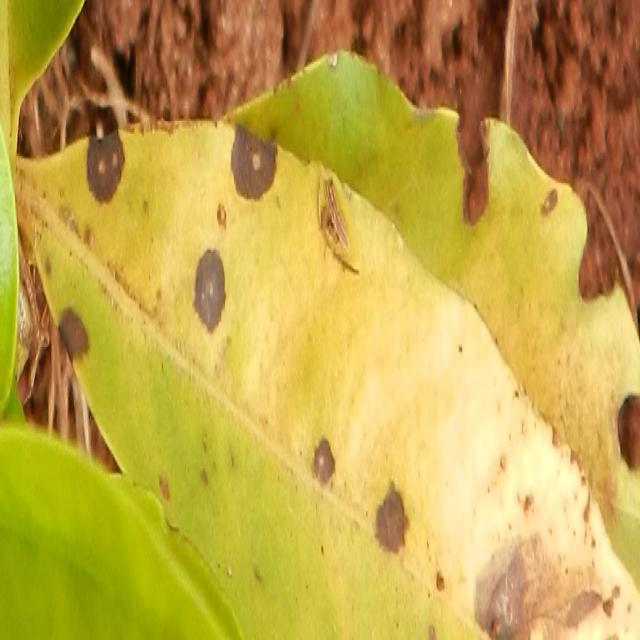Enfermedad-Mancha-de-hierro: (13, 0, 640, 640)
